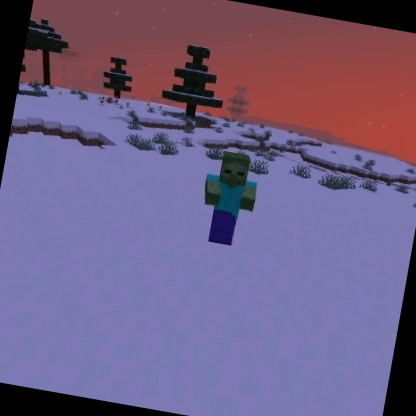zombie: (192, 144, 267, 252)
